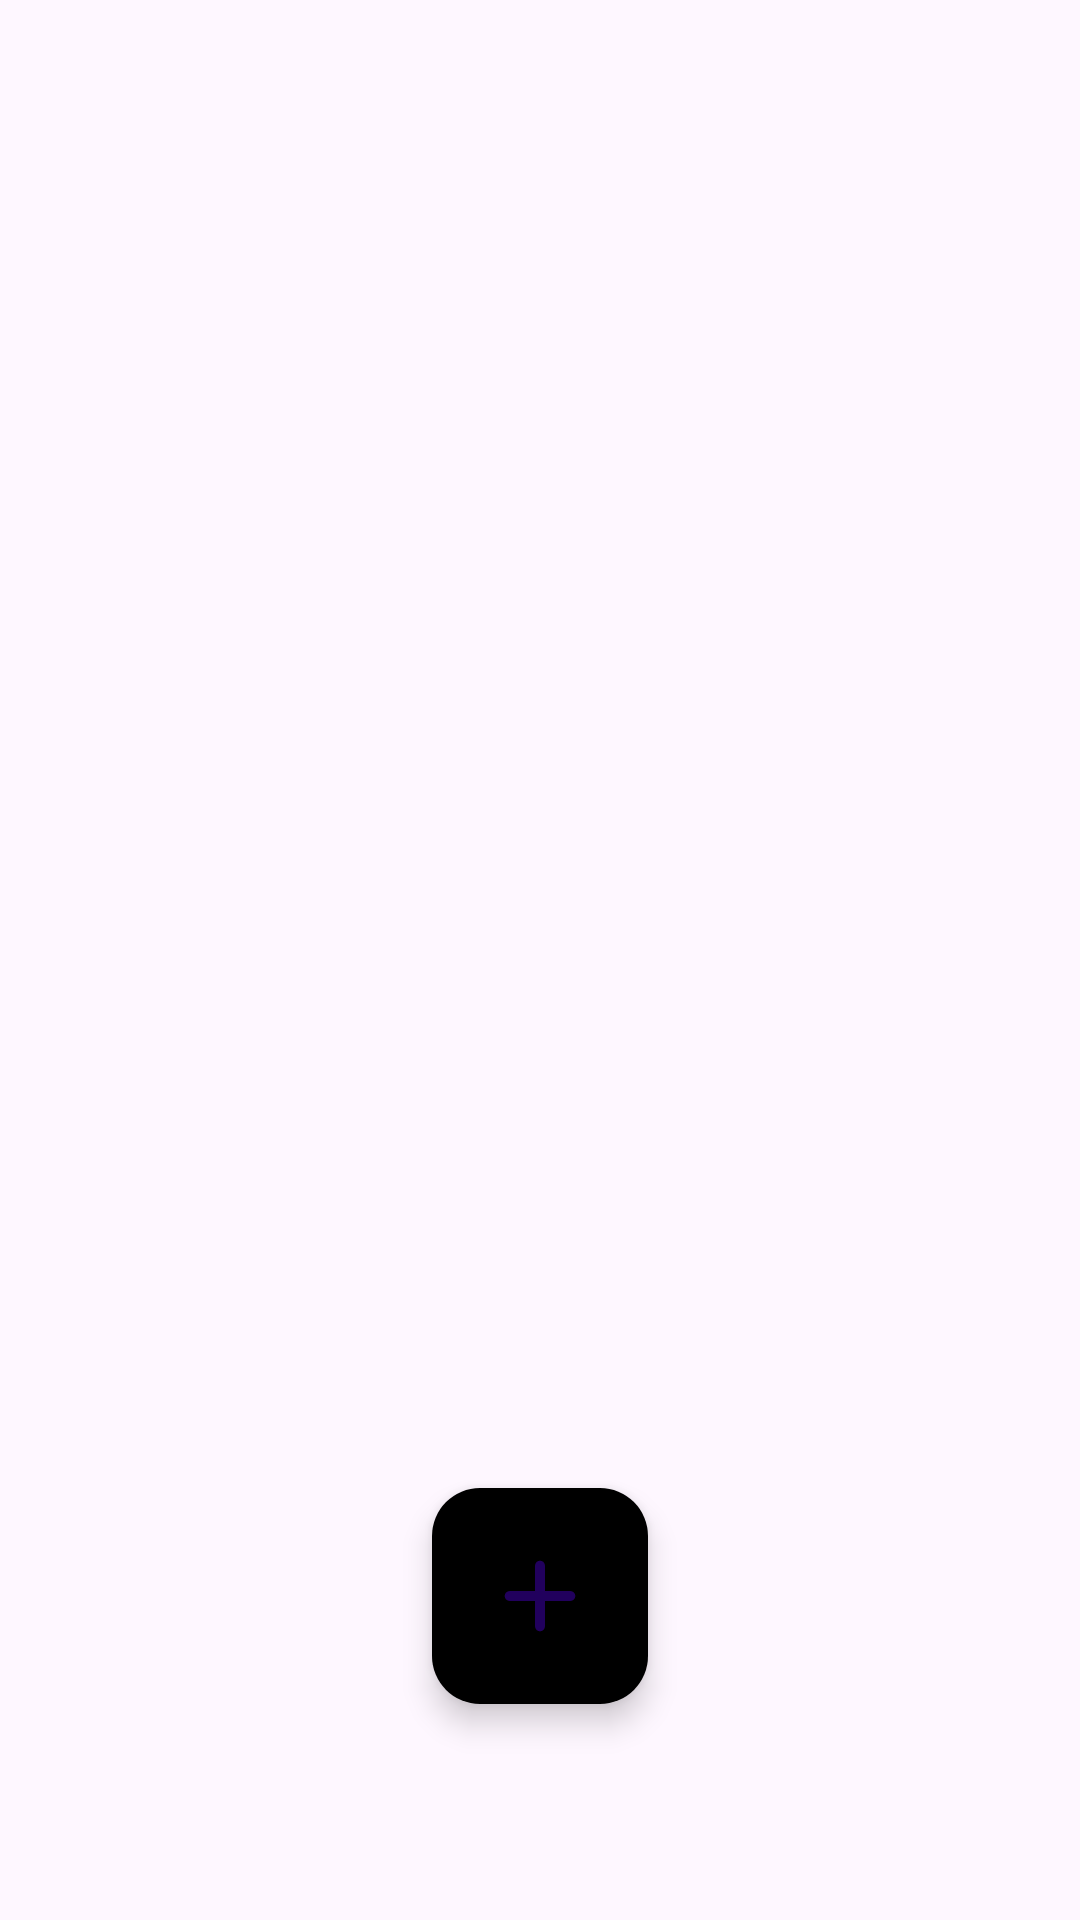

Where to tap for icons on this 1080w x 1920h app screen, as (x,y):
Add item: (540,1596)
